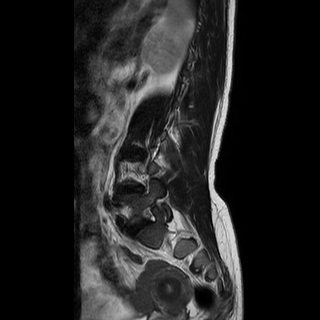LFS1: (136, 201, 161, 230)
